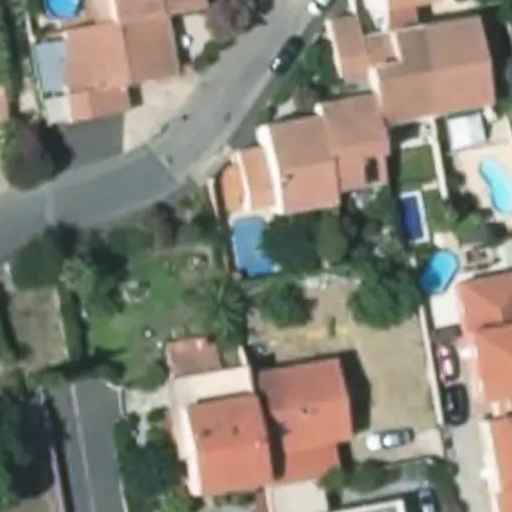pool: (232, 216, 276, 265)
